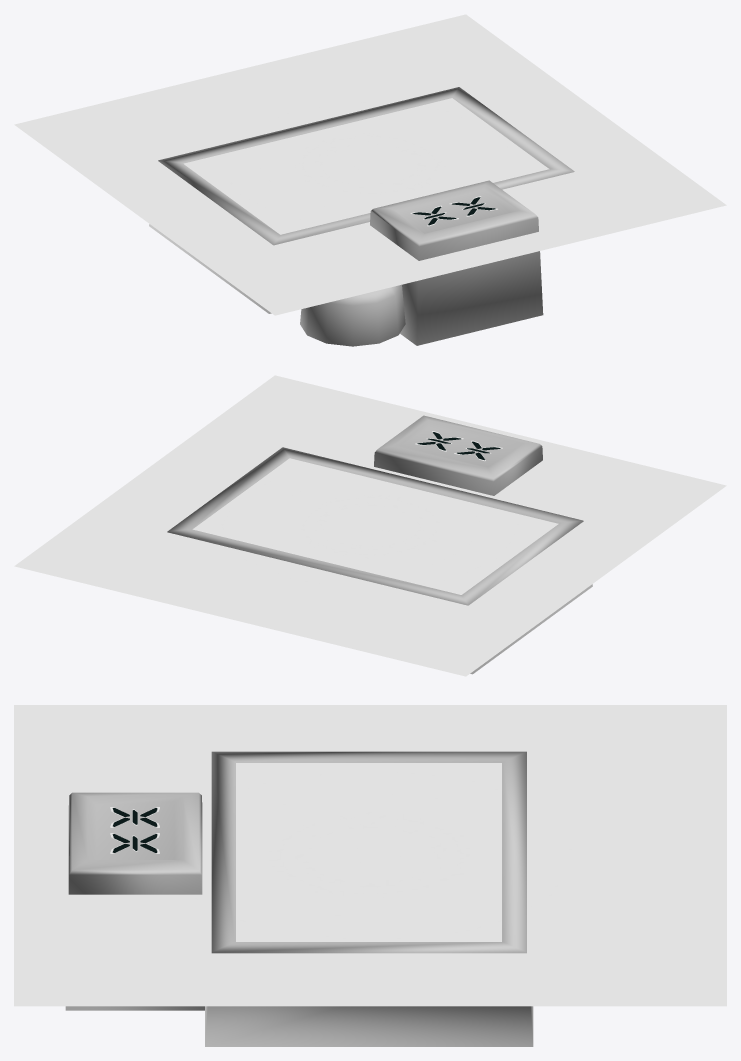
The model's file is TimerComponent.fbx.
3 views of the same model, one above another, from view 1: azimuth 30°, elevation 25°; view 2: azimuth 150°, elevation 25°; view 3: azimuth 270°, elevation 25° (orthographic). The views are drawn at different scales.
Parts seen in each view (by area): view 1: LightGlow, Component_Timer, Component_TimerNoStrikes; view 2: LightGlow, Component_TimerNoStrikes, Component_Timer; view 3: LightGlow, Component_TimerNoStrikes, Component_Timer.
Part boxes in pixels (box(x1,y1,x2,y2)): LightGlow: box(14, 14, 726, 315); Component_Timer: box(300, 180, 543, 346); Component_TimerNoStrikes: box(149, 87, 574, 313); LightGlow: box(14, 375, 726, 676); Component_TimerNoStrikes: box(167, 447, 592, 674); Component_Timer: box(374, 415, 542, 495); LightGlow: box(14, 705, 726, 1006); Component_TimerNoStrikes: box(205, 751, 533, 1046); Component_Timer: box(65, 792, 204, 1010).
Size of the model in its own units: 0.2867 by 0.0621 by 0.2867.
